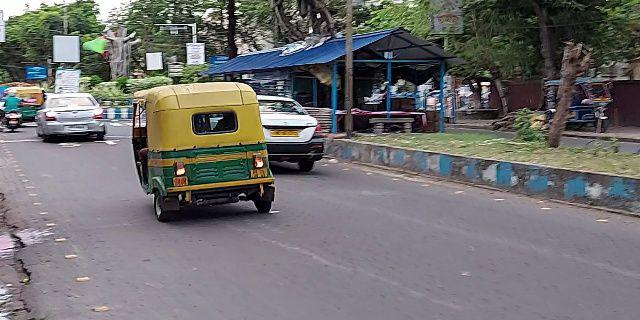Autorickshaw: (131, 82, 285, 229)
Car: (257, 90, 327, 172), (41, 90, 111, 150)
